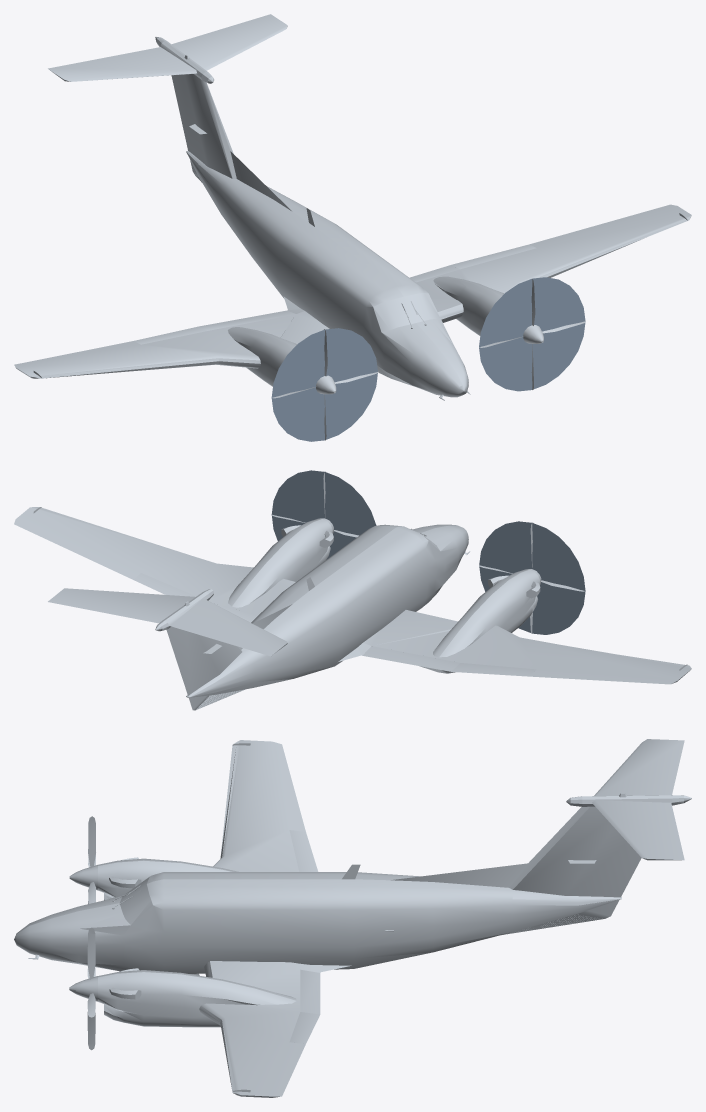
3 renders of one model, top to bottom at view 1: azimuth 30°, elevation 25°; view 2: azimuth 150°, elevation 25°; view 3: azimuth 270°, elevation 25°, orthographic. The views are drawn at different scales.
Parts seen in each view (by area): view 1: node1, node92_anim_libxplanemp/engines/engine_rotation_angle_deg1, node64_anim_libxplanemp/engines/engine_rotation_angle_deg2; view 2: node1, node64_anim_libxplanemp/engines/engine_rotation_angle_deg2, node92_anim_libxplanemp/engines/engine_rotation_angle_deg1, node62_anim_libxplanemp/controls/flap_ratio, node60_anim_libxplanemp/controls/flap_ratio, node56_anim_libxplanemp/controls/flap_ratio; view 3: node1, node58_anim_libxplanemp/controls/flap_ratio, node60_anim_libxplanemp/controls/flap_ratio, node56_anim_libxplanemp/controls/flap_ratio.
Boxes of the visible parts, box(x1,y1,x2,y2) form: node1: box(14, 14, 691, 400); node92_anim_libxplanemp/engines/engine_rotation_angle_deg1: box(479, 277, 585, 391); node64_anim_libxplanemp/engines/engine_rotation_angle_deg2: box(271, 328, 377, 441); node1: box(14, 507, 691, 710); node64_anim_libxplanemp/engines/engine_rotation_angle_deg2: box(479, 521, 585, 634); node92_anim_libxplanemp/engines/engine_rotation_angle_deg1: box(271, 470, 376, 559); node62_anim_libxplanemp/controls/flap_ratio: box(362, 646, 459, 673); node60_anim_libxplanemp/controls/flap_ratio: box(451, 663, 536, 676); node56_anim_libxplanemp/controls/flap_ratio: box(134, 573, 195, 596); node1: box(14, 739, 691, 1097); node58_anim_libxplanemp/controls/flap_ratio: box(300, 969, 320, 1014); node60_anim_libxplanemp/controls/flap_ratio: box(289, 830, 318, 871); node56_anim_libxplanemp/controls/flap_ratio: box(289, 1012, 320, 1043).
Bounding box in the file's own units: 16.67 × 4.41 × 13.45.
